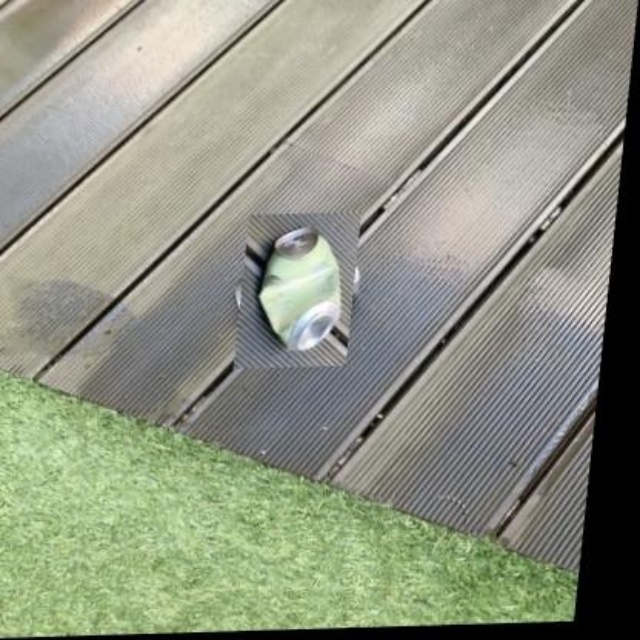trash: (258, 226, 338, 349)
